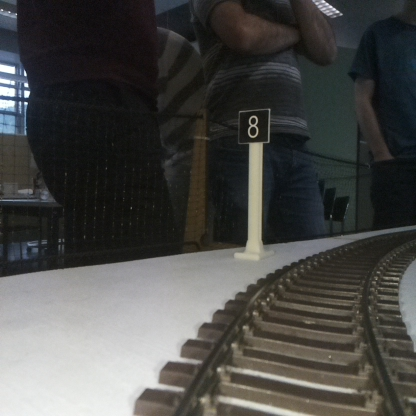black-info-8: (239, 109, 268, 259)
